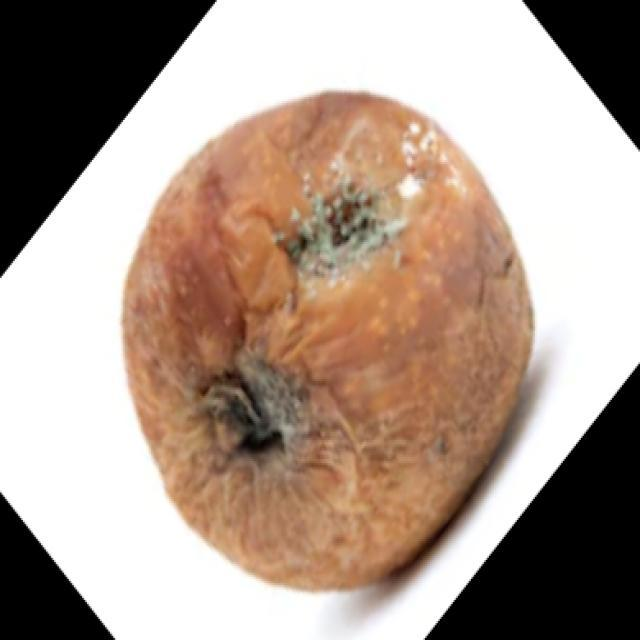Rotten: (122, 90, 540, 593)
